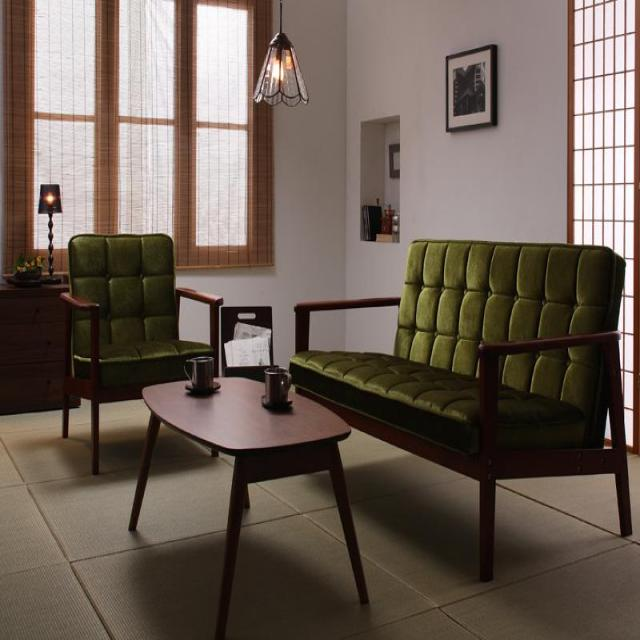modern chair: (292, 231, 638, 581), (59, 226, 222, 461)
modern desk: (125, 368, 373, 638)
modern shelf: (0, 272, 80, 416)
